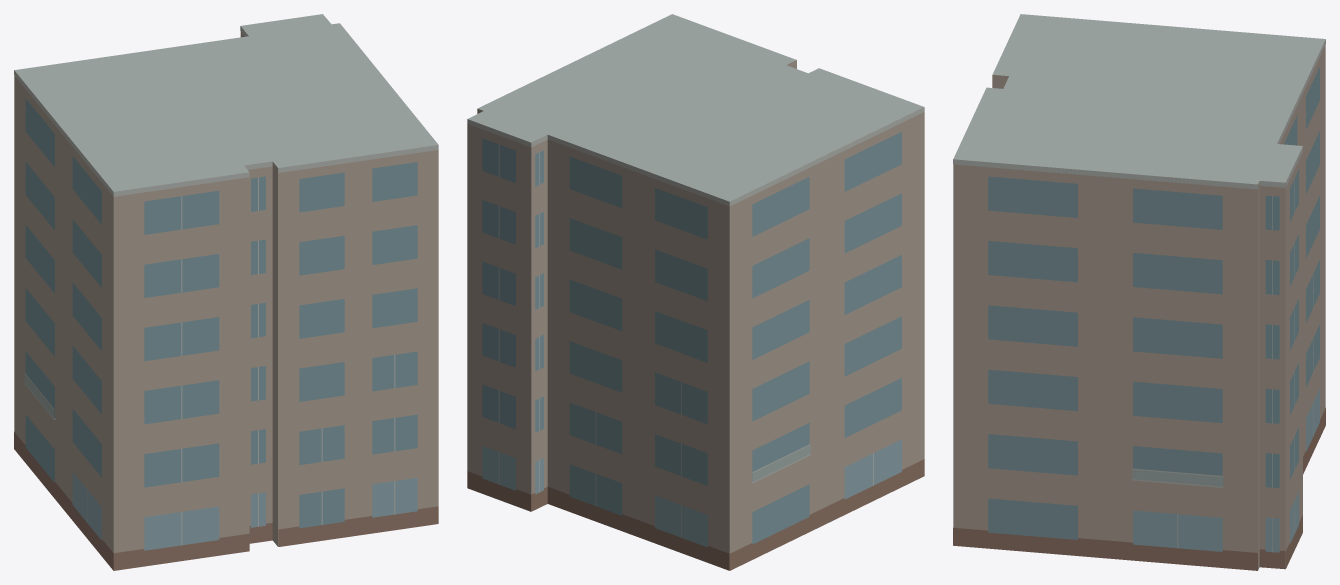
The model's file is survey-upis-33046570.glb.
The picture shows the model from 3 angles, left to right: view 1: azimuth 30°, elevation 25°; view 2: azimuth 150°, elevation 25°; view 3: azimuth 270°, elevation 25°; orthographic projection. The views are drawn at different scales.
Visible parts, largest first — view 1: survey-upis-33046570.tmp; view 2: survey-upis-33046570.tmp; view 3: survey-upis-33046570.tmp.
Part boxes in pixels (x1,y1,x2,y2): survey-upis-33046570.tmp: (14, 14, 438, 570); survey-upis-33046570.tmp: (467, 14, 924, 570); survey-upis-33046570.tmp: (953, 14, 1325, 570).
Size of the model in its own units: 17.71 by 18.7 by 16.36.
